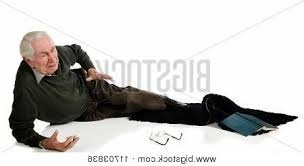fall: (5, 29, 259, 153)
